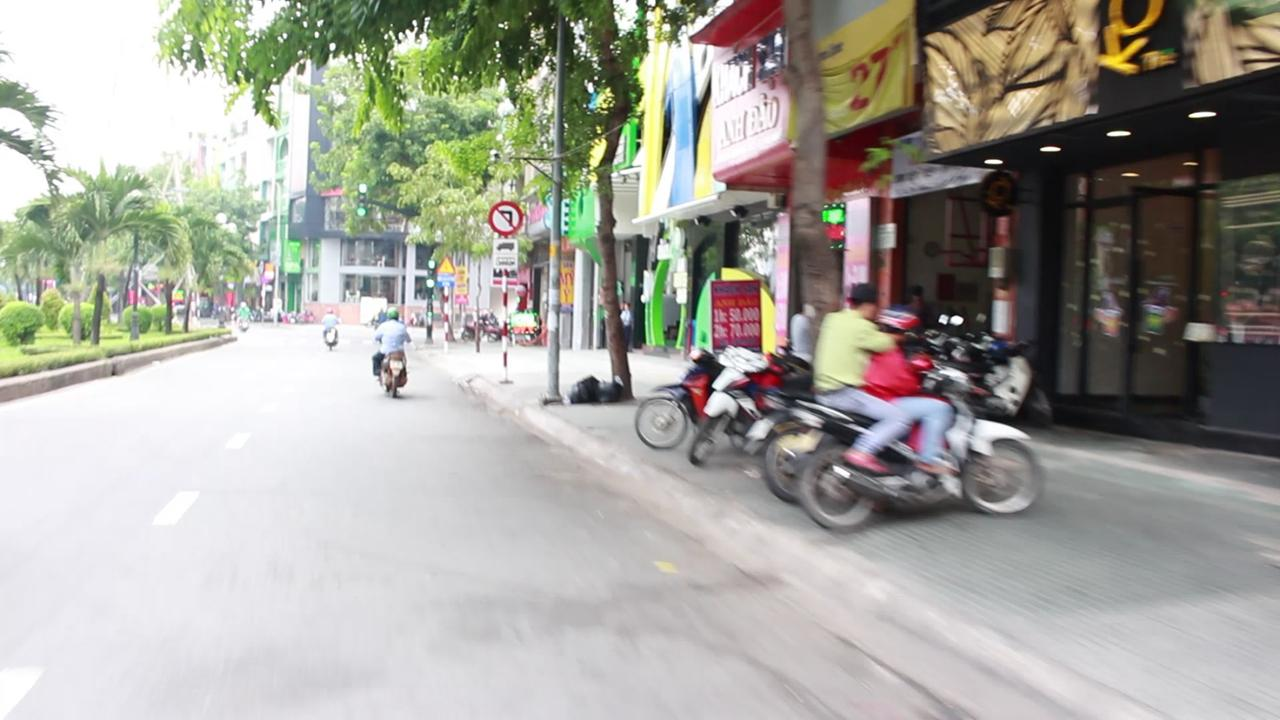P.115: (491, 198, 524, 236)
